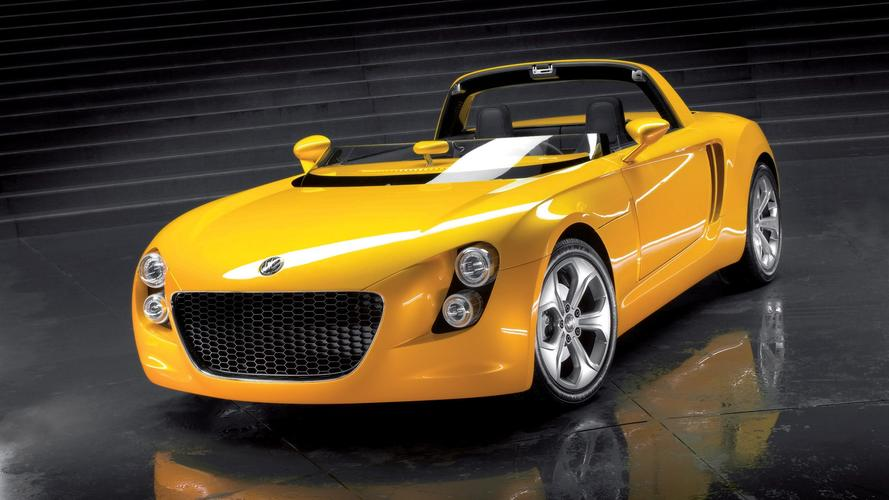汽车: (125, 55, 798, 420)
